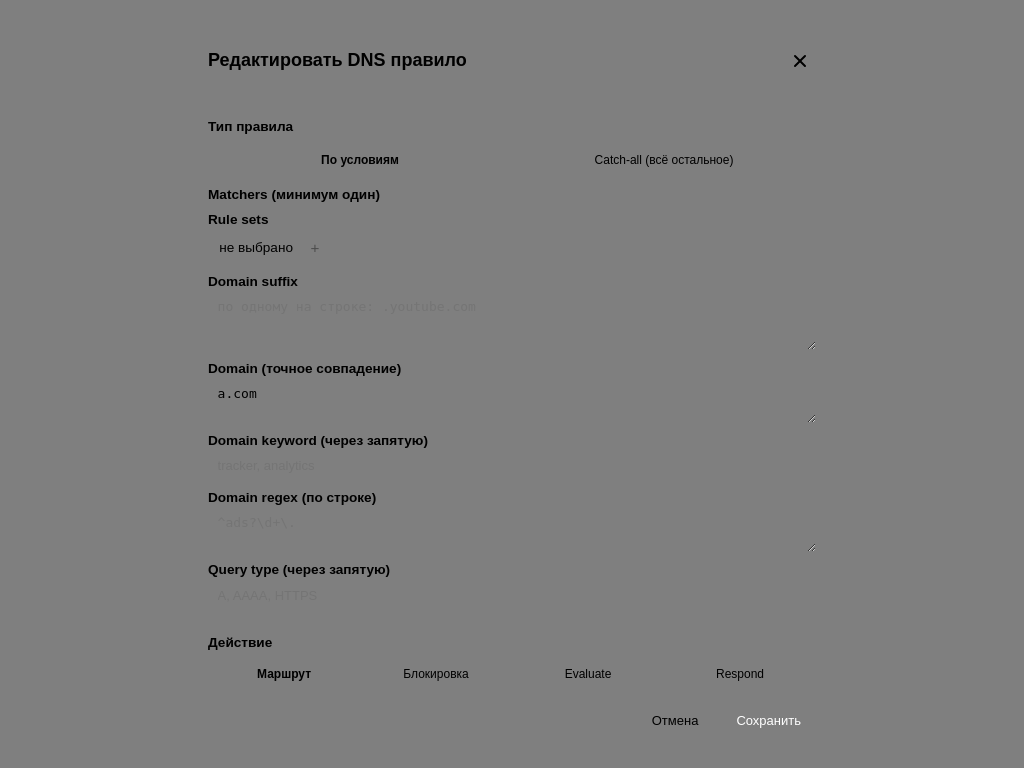
DNSRuleEditModal › action=evaluate показывает поле тега и скрывает race
Check: the text "Тег ответа" is not shown
Click the button "Evaluate" at [588, 674], box [514,661,662,687]
(page scrolled)
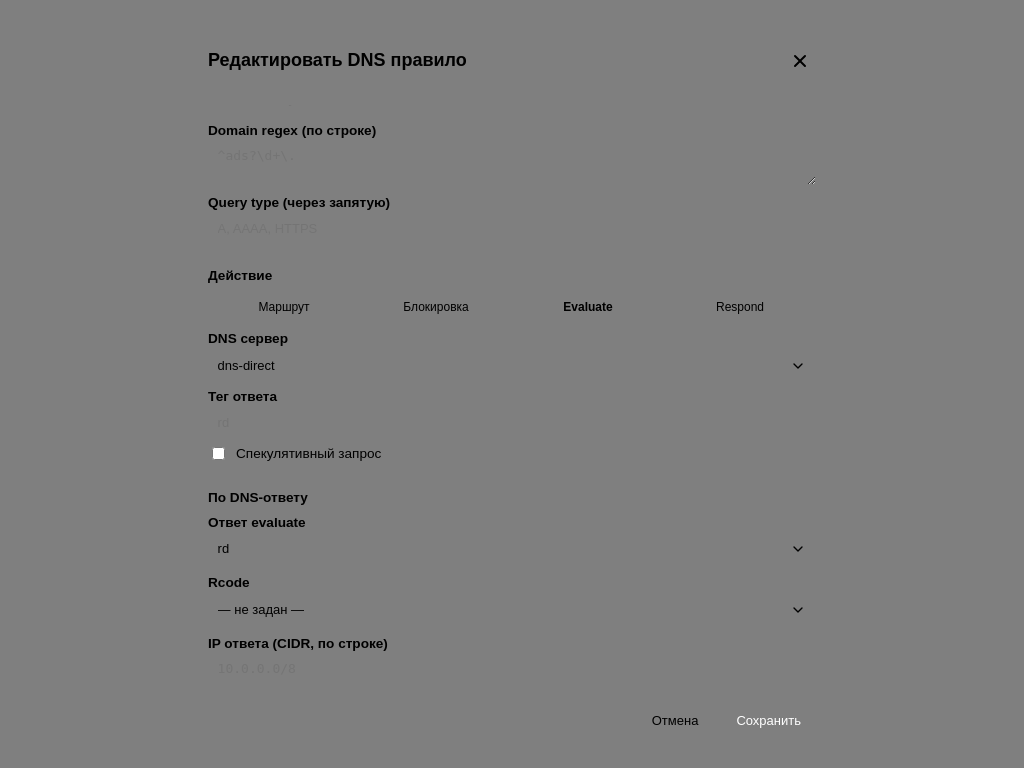
Check: the text "Тег ответа" is shown, box [208,389,277,404]
